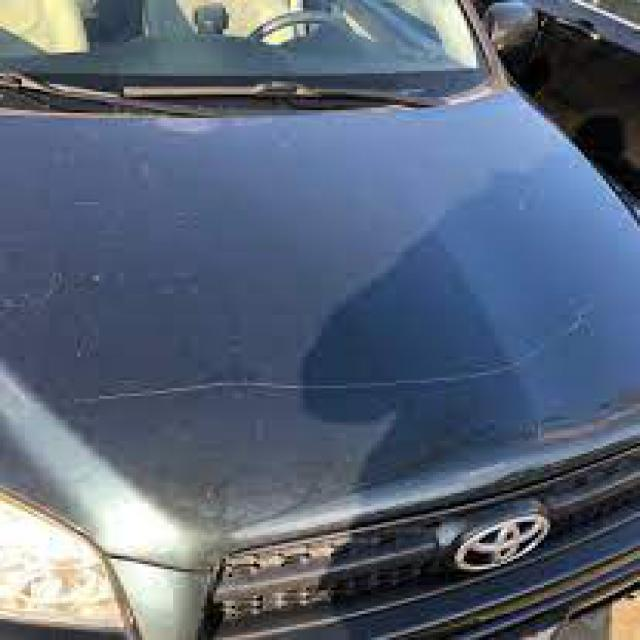bonnet-dent: (3, 113, 637, 554)
